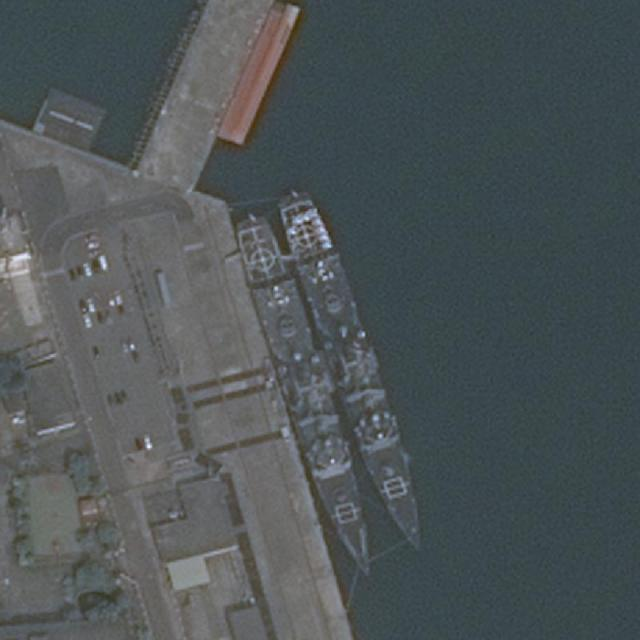Frigate: (273, 190, 439, 553), (233, 211, 385, 584)
